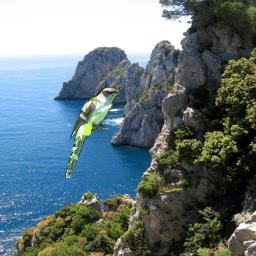Cuckoo: (65, 87, 124, 178)
